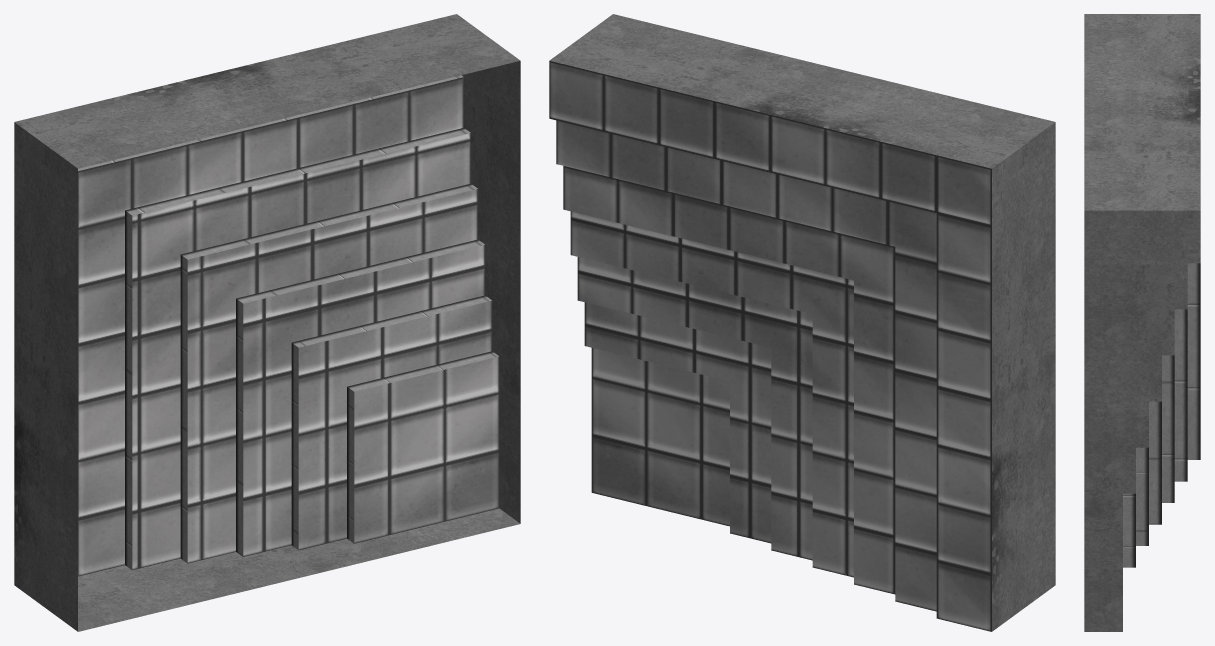
File: ground_floor_piece_4x4_stairs_corner.fbx
The picture shows the model from 3 angles, left to right: view 1: azimuth 30°, elevation 25°; view 2: azimuth 150°, elevation 25°; view 3: azimuth 270°, elevation 25°; orthographic projection. The views are drawn at different scales.
Parts seen in each view (by area): view 1: ground_floor_piece_4x4_stairs_corner; view 2: ground_floor_piece_4x4_stairs_corner; view 3: ground_floor_piece_4x4_stairs_corner.
Boxes of the visible parts, x1,y1,x2,y2 form: ground_floor_piece_4x4_stairs_corner: (14,14,520,631); ground_floor_piece_4x4_stairs_corner: (549,14,1055,631); ground_floor_piece_4x4_stairs_corner: (1084,14,1200,631).
Size of the model in its own units: 4 by 4 by 1.
